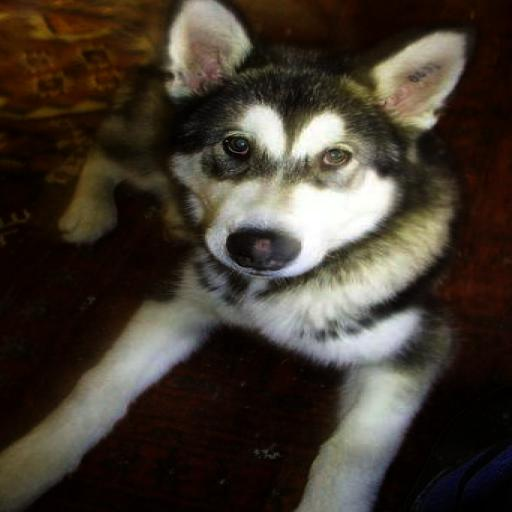dog_face: (144, 0, 482, 272)
